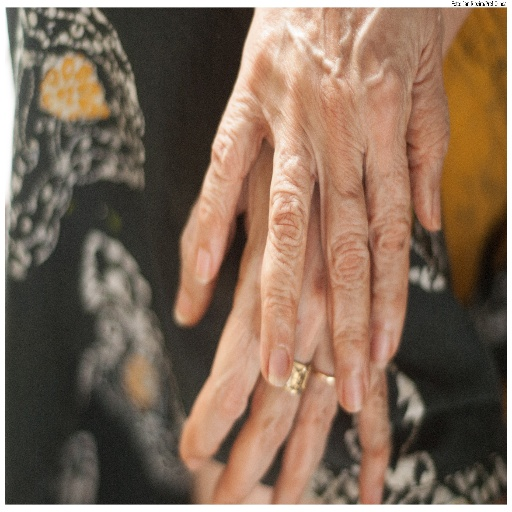hand: (194, 0, 452, 413), (173, 136, 391, 504)
